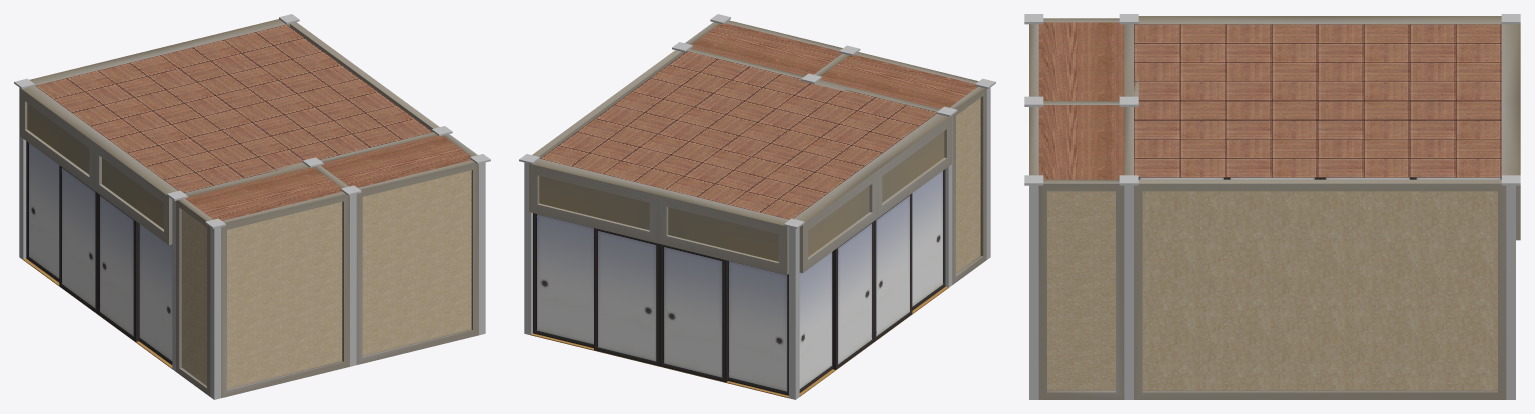
Rendered from Sample_livingroom_8jyo.fbx.
The picture shows the model from 3 angles, left to right: view 1: azimuth 30°, elevation 25°; view 2: azimuth 150°, elevation 25°; view 3: azimuth 270°, elevation 25°; orthographic projection. The views are drawn at different scales.
Visible parts, largest first — view 1: tenjyo01, tutikabe04, tutikabe014, husuma02, tenjyo1, tutikabe05, door1, door3, door2, door4, husuma01, hashira07 (+7 smaller); view 2: tenjyo01, husuma01, door3 (×2), door1 (×2), door4 (×2), door2 (×2), husuma02, tenjyo1, tutikabe05, hashira02, hashira01, tutikabe013 (+6 smaller); view 3: tutikabe013, tenjyo01, tutikabe015, tenjyo1, husuma01, husuma02, hashira01, hashira04, hashira019, oshiire01, tutikabe04, tutikabe03 (+1 smaller).
Part boxes in pixels (left/top/right/bottom): tenjyo01: left=35, top=24, right=433, bottom=192; tutikabe04: left=221, top=191, right=349, bottom=398; tutikabe014: left=356, top=160, right=478, bottom=364; husuma02: left=20, top=86, right=177, bottom=368; tenjyo1: left=185, top=135, right=471, bottom=220; tutikabe05: left=176, top=198, right=212, bottom=396; door1: left=97, top=193, right=139, bottom=341; door3: left=59, top=165, right=97, bottom=313; door2: left=139, top=224, right=172, bottom=364; door4: left=26, top=141, right=59, bottom=282; husuma01: left=29, top=19, right=289, bottom=85; hashira07: left=205, top=218, right=225, bottom=399; tenjyo01: left=540, top=51, right=936, bottom=219; husuma01: left=529, top=159, right=789, bottom=398; door3 (×2): left=594, top=221, right=873, bottom=369; door1 (×2): left=660, top=193, right=912, bottom=382; door4 (×2): left=533, top=213, right=832, bottom=392; door2 (×2): left=728, top=169, right=945, bottom=395; husuma02: left=793, top=114, right=951, bottom=396; tenjyo1: left=691, top=23, right=977, bottom=109; tutikabe05: left=950, top=86, right=986, bottom=284; hashira02: left=784, top=218, right=804, bottom=399; hashira01: left=519, top=154, right=539, bottom=335; tutikabe013: left=532, top=50, right=683, bottom=158; tutikabe013: left=1134, top=179, right=1506, bottom=399; tenjyo01: left=1134, top=24, right=1501, bottom=177; tutikabe015: left=1038, top=179, right=1124, bottom=399; tenjyo1: left=1038, top=22, right=1124, bottom=179; husuma01: left=1501, top=24, right=1520, bottom=240; husuma02: left=1138, top=16, right=1501, bottom=24; hashira01: left=1501, top=175, right=1520, bottom=399; hashira04: left=1119, top=175, right=1138, bottom=399; hashira019: left=1024, top=175, right=1043, bottom=399; oshiire01: left=1124, top=24, right=1138, bottom=96; tutikabe04: left=1029, top=24, right=1038, bottom=96; tutikabe03: left=1124, top=107, right=1133, bottom=175.
Bounding box in the file's own units: 840 × 505 × 1040.
